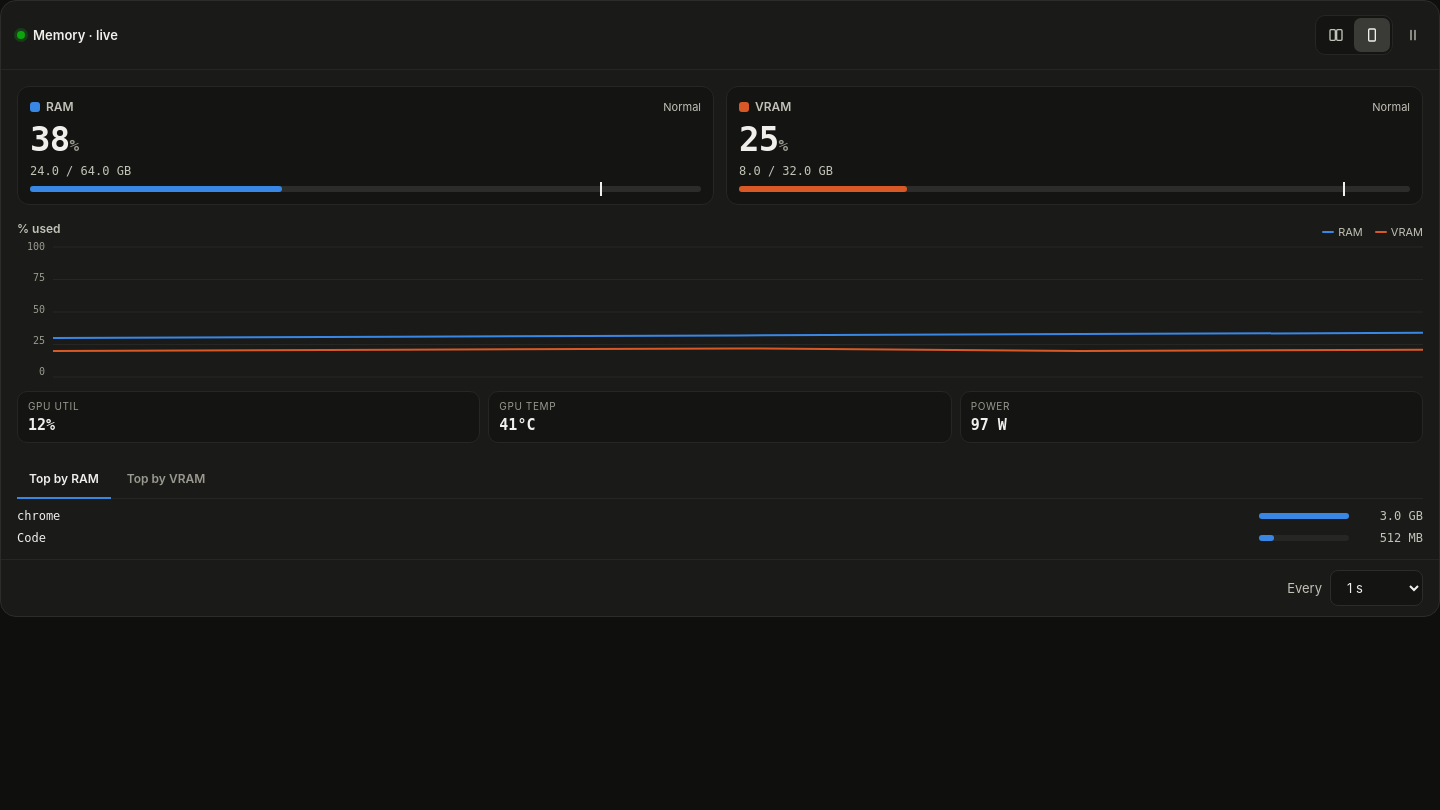
Scenario: CompactView › switches the process list between RAM and VRAM
Expected: the panel shows "chrome", top-left (17, 509), bottom-right (60, 523)
Click the tab "Top by VRAM" at (166, 479), box top-left (115, 459), bottom-right (217, 499)
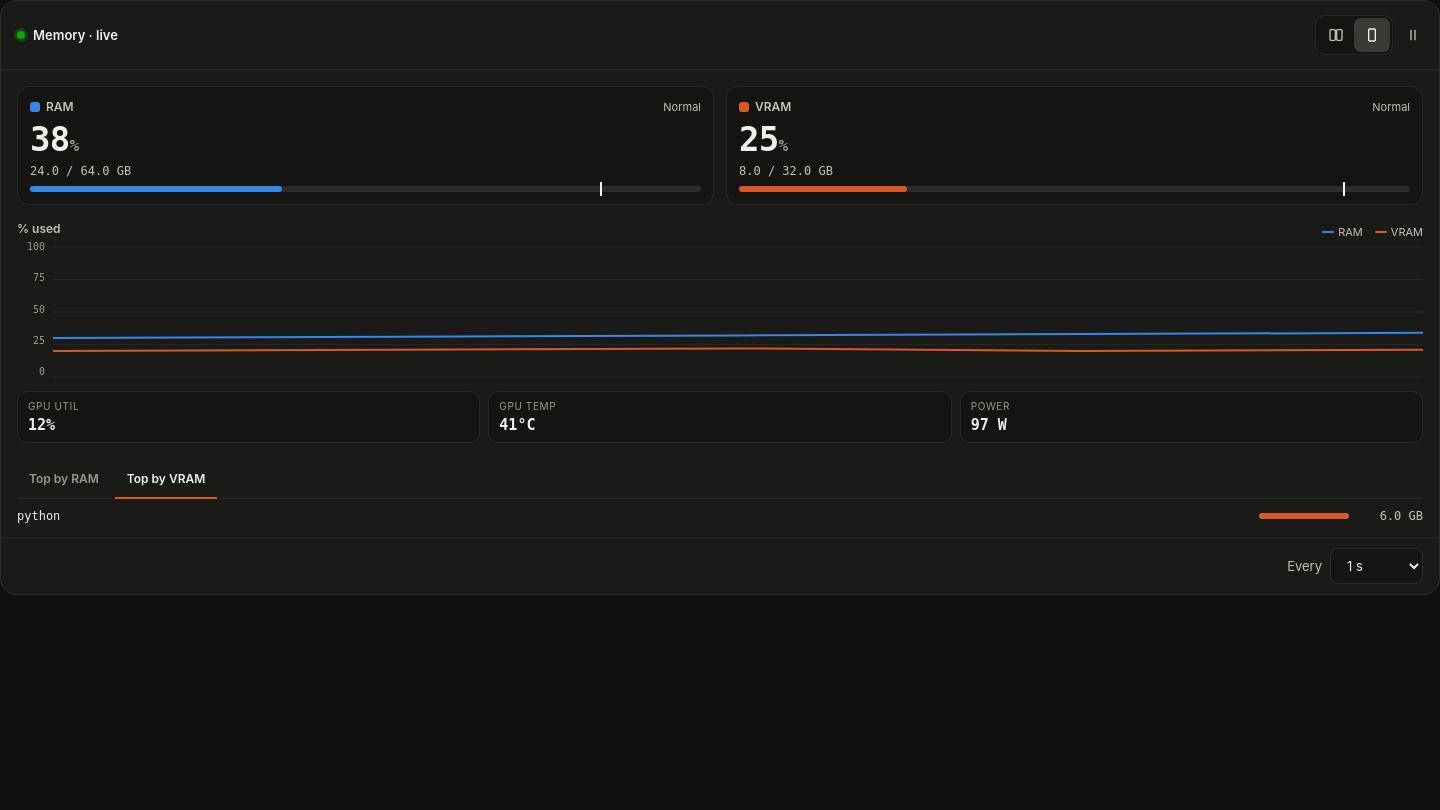
Result: the panel shows "python" at top-left (17, 509), bottom-right (60, 523)
